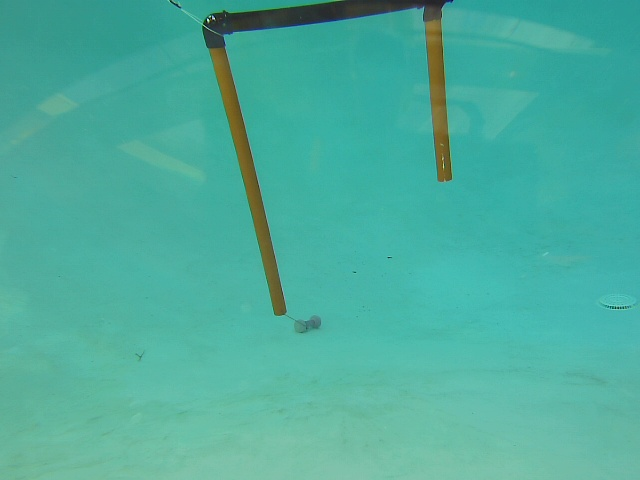Gate: (200, 36, 287, 315), (418, 7, 451, 188)
